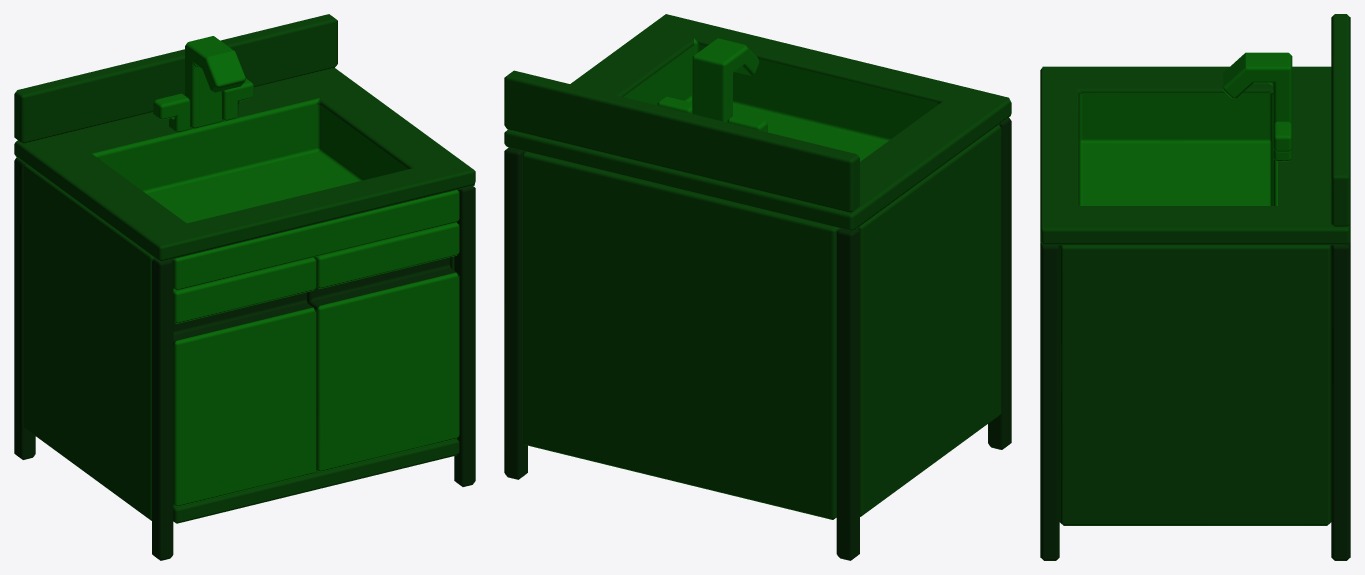
The picture shows the model from 3 angles, left to right: view 1: azimuth 30°, elevation 25°; view 2: azimuth 150°, elevation 25°; view 3: azimuth 270°, elevation 25°; orthographic projection. The views are drawn at different scales.
Parts seen in each view (by area): view 1: Plane.516; view 2: Plane.516; view 3: Plane.516.
Part boxes in pixels (x1,y1,x2,y2): Plane.516: (14,14,475,560); Plane.516: (504,14,1011,560); Plane.516: (1040,14,1350,560).
Size of the model in its own units: 1 by 1.2 by 0.8.
